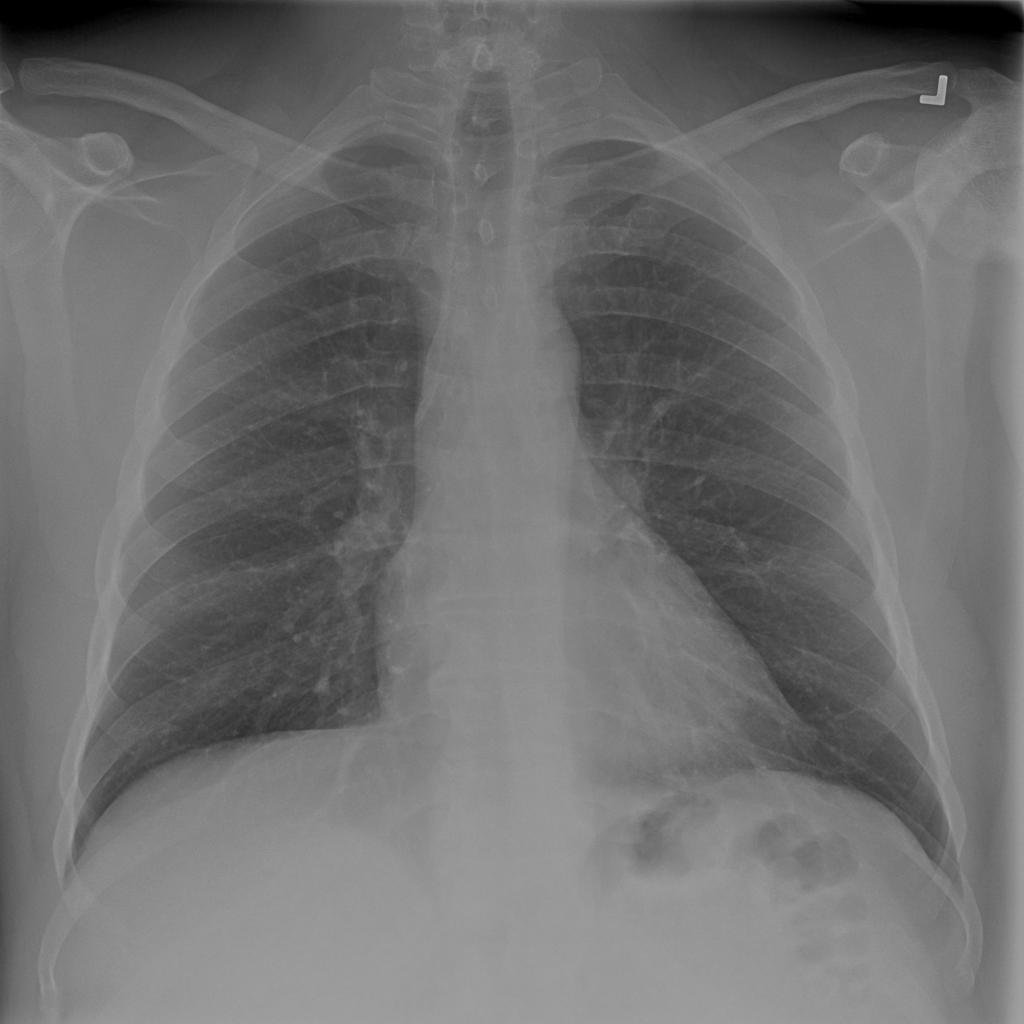nodule: (750, 338, 802, 383)
